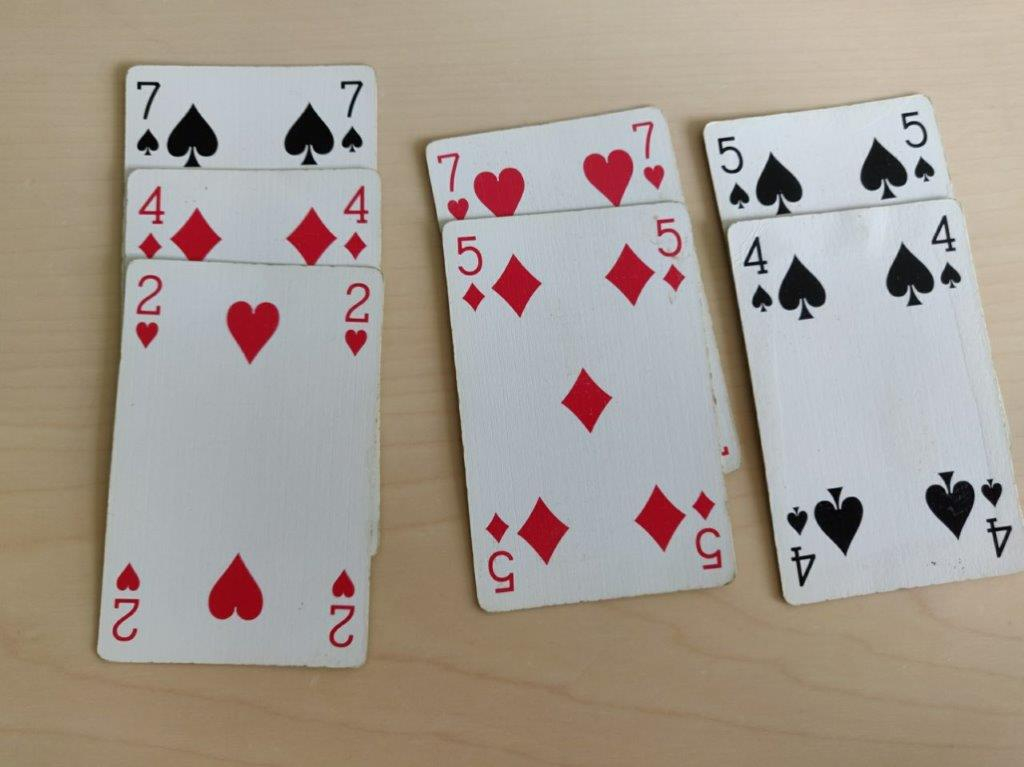2H: (124, 271, 168, 348), (340, 279, 373, 360)
4D: (131, 183, 170, 259), (338, 181, 373, 262)
4S: (927, 212, 967, 294), (741, 232, 776, 313)
5D: (448, 233, 488, 313), (651, 213, 688, 298)
5S: (711, 129, 754, 209), (896, 107, 937, 186)
7H: (428, 148, 473, 224), (627, 117, 670, 194)
7S: (132, 77, 165, 157), (338, 76, 370, 155)
